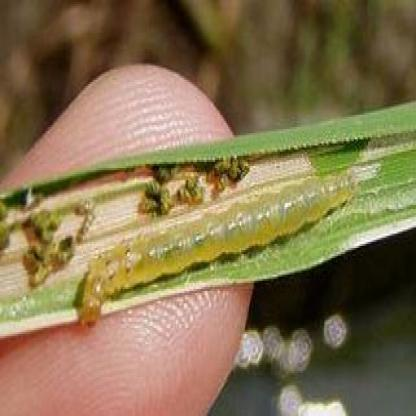leaf-folder: (63, 166, 354, 326)
